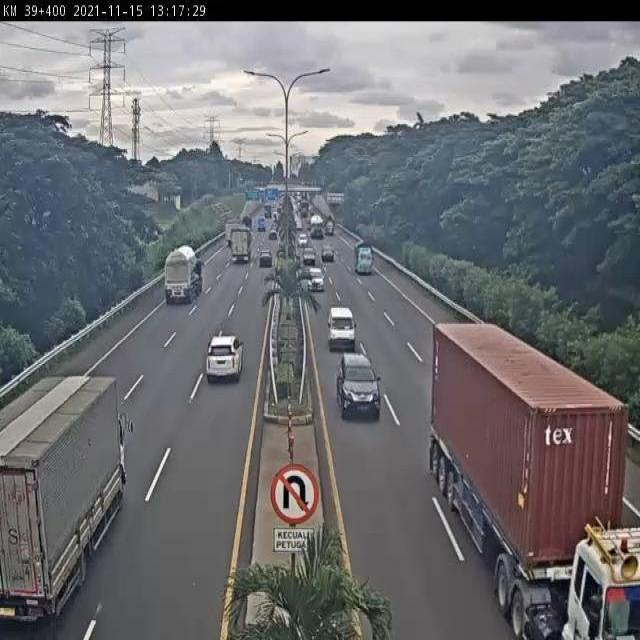bus-s-: (325, 307, 359, 349)
car: (334, 351, 385, 425), (204, 331, 245, 381), (304, 264, 328, 293), (256, 247, 275, 270), (300, 244, 318, 268), (320, 244, 337, 265)
truck-l-: (162, 244, 203, 307)
truck-m-: (0, 373, 135, 627), (351, 238, 377, 278), (229, 226, 254, 262)
truck-xl-: (431, 317, 640, 640)
